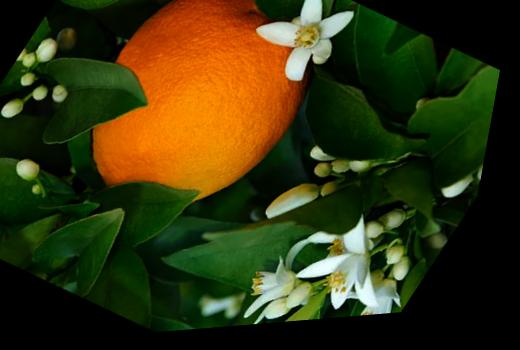Healthy Citrus: (7, 32, 168, 176), (74, 154, 210, 269), (28, 191, 149, 306), (314, 70, 417, 168), (56, 0, 122, 12)
